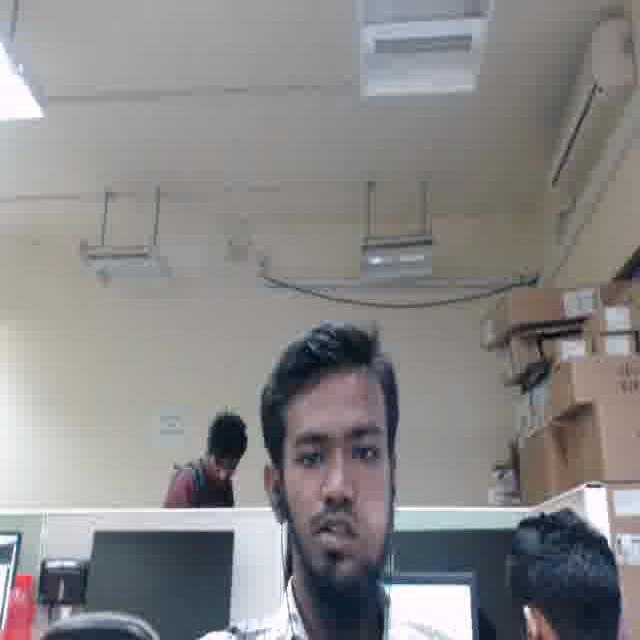Engaged: (281, 383, 392, 577)
